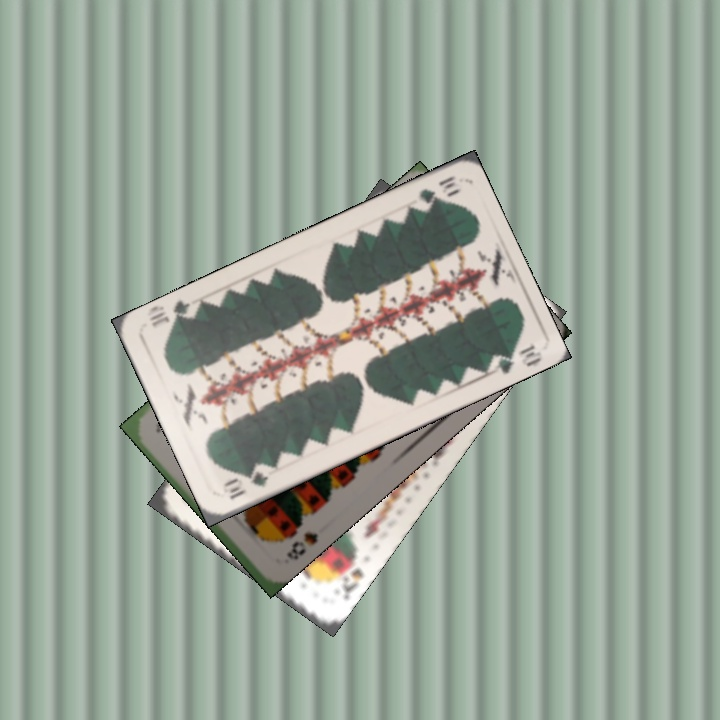G10: (220, 465, 271, 502), (414, 171, 463, 209)
S8: (282, 528, 321, 563)
SK: (335, 548, 367, 602)
